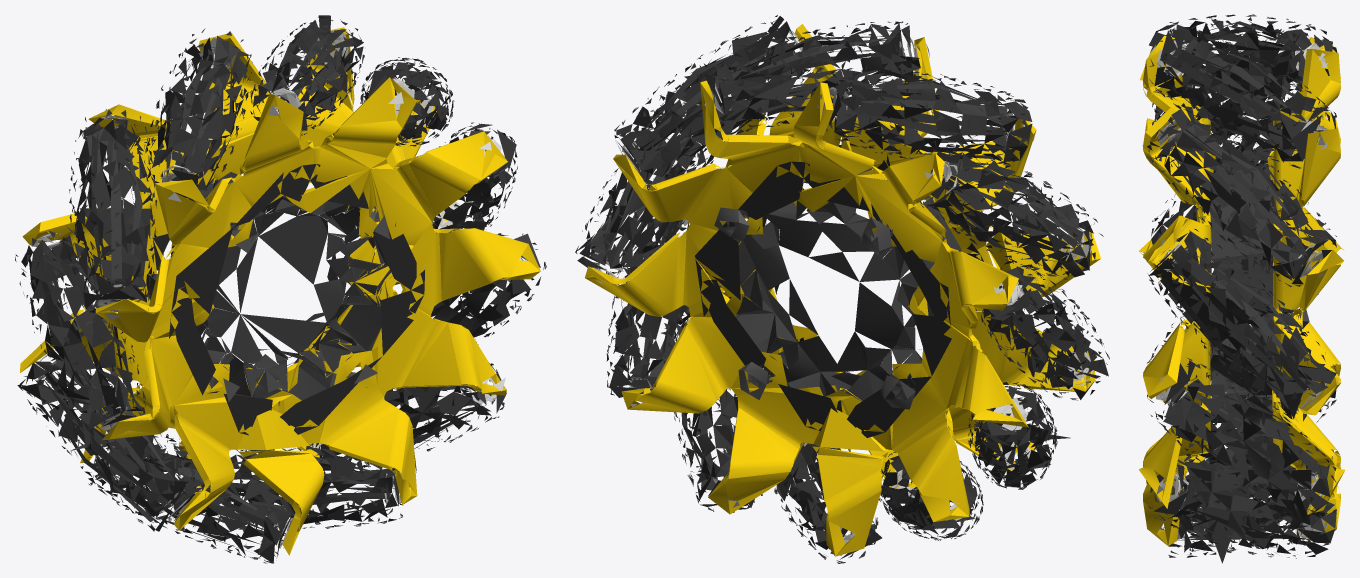
3 renders of one model, left to right at view 1: azimuth 30°, elevation 25°; view 2: azimuth 150°, elevation 25°; view 3: azimuth 270°, elevation 25°, orthographic.
Visible parts, largest first — view 1: br; view 2: br; view 3: br.
Part boxes in pixels (<box>): br: <box>15,15,546,563</box>; br: <box>575,15,1109,563</box>; br: <box>1138,14,1344,563</box>.
Bounding box in the file's own units: 0.1039 × 0.1039 × 0.0395.
